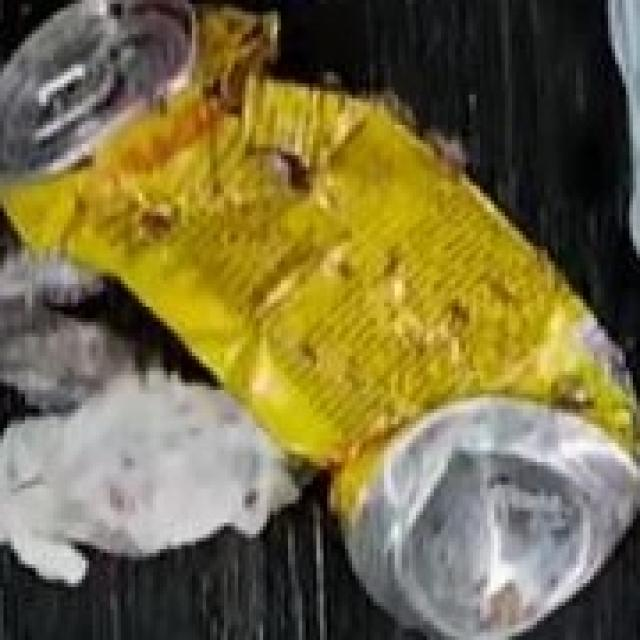can: (2, 0, 640, 634)
